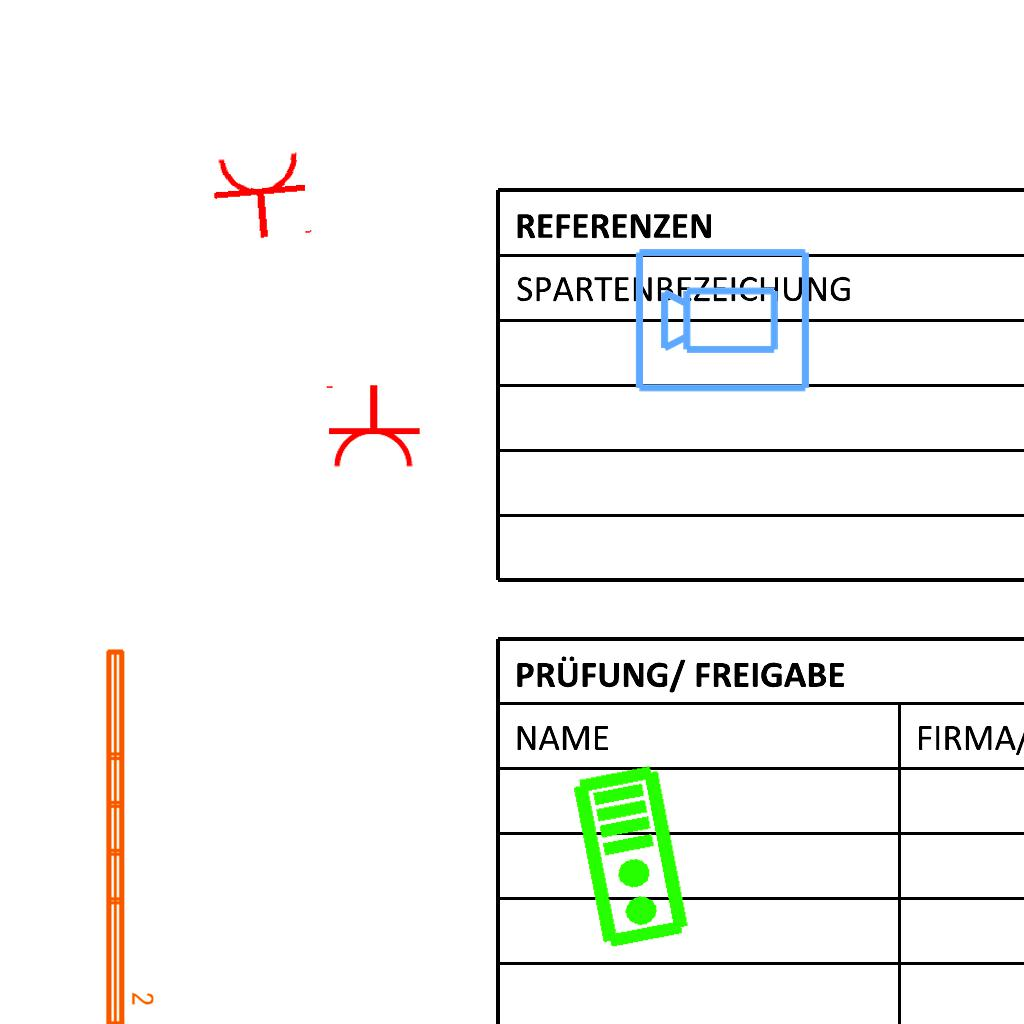Ambulanz_Pendelleuchte_LED: (100, 644, 156, 1024)
Gegensprechanlage_mit_Video: (569, 761, 696, 953)
KFO_Kamera_mit_Festobjektiv: (632, 242, 814, 396)
Schukosteckdose_einfach: (208, 148, 317, 244), (322, 383, 422, 470)
